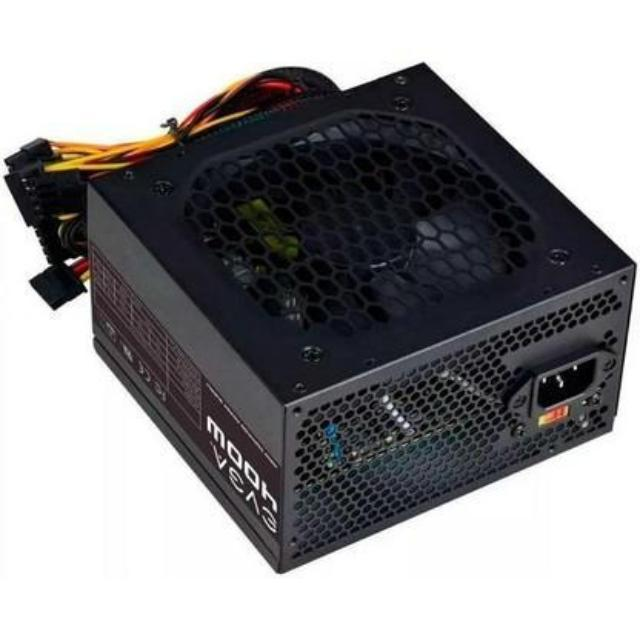PSU: (75, 53, 640, 576)
